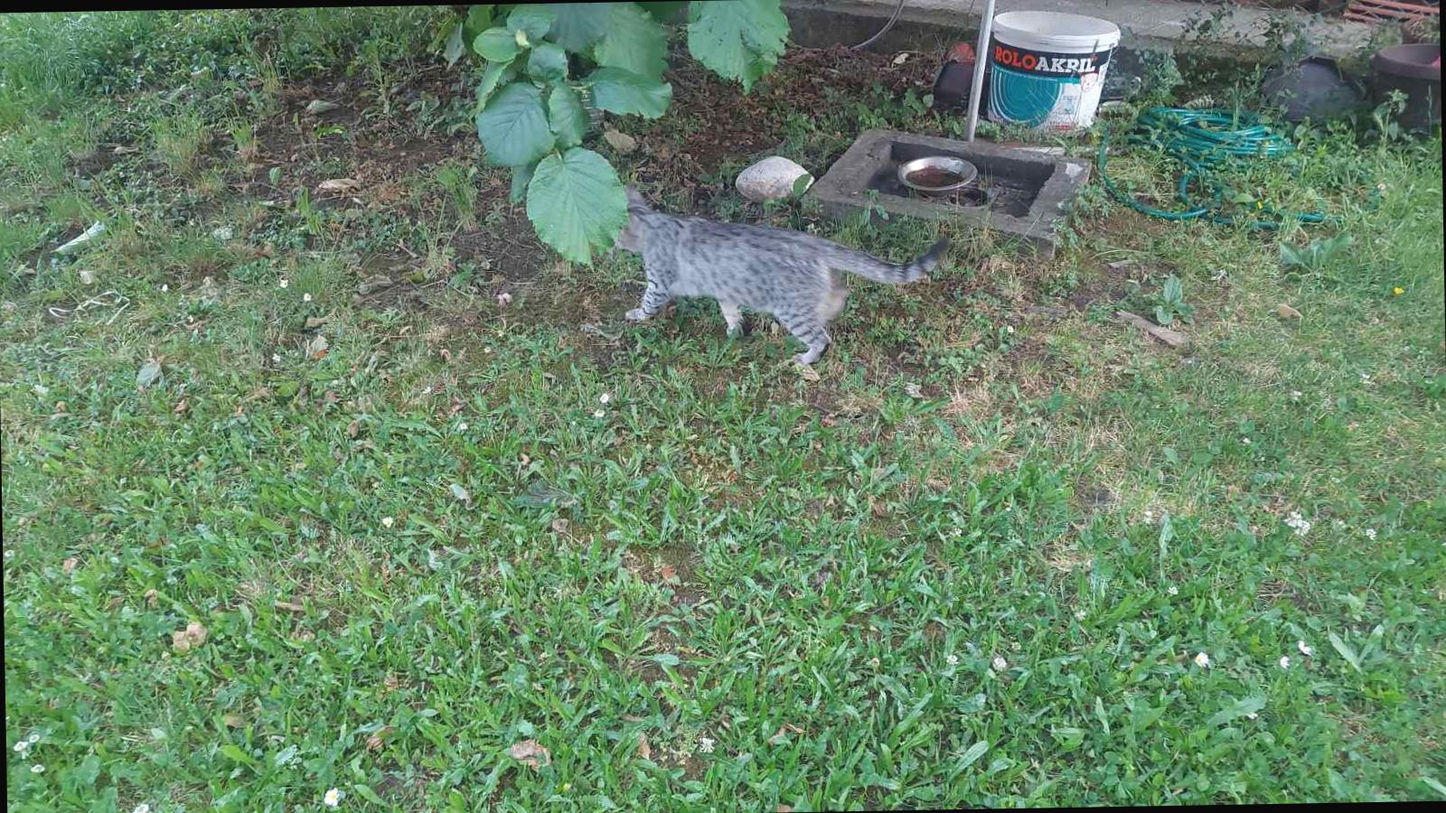macka: (602, 178, 952, 370)
